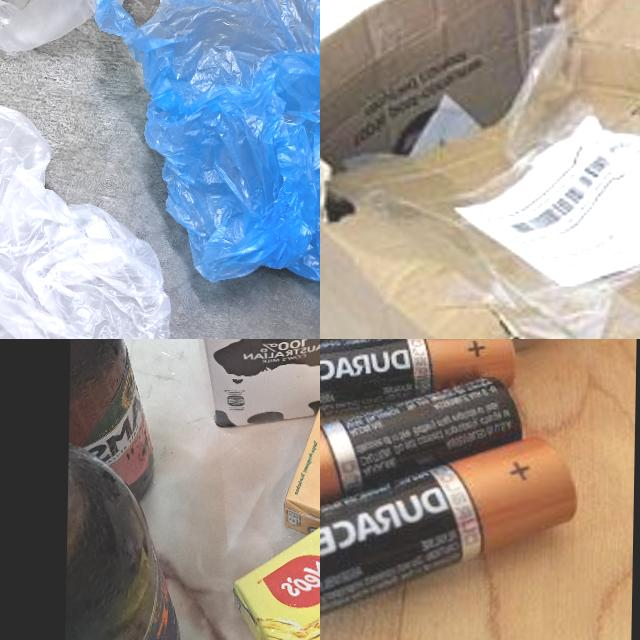bateria: (320, 430, 577, 639), (320, 372, 523, 550), (320, 339, 519, 433)
caixinha: (231, 514, 320, 640)
garrafa de vidro: (67, 339, 154, 501)
papelão: (320, 0, 640, 339)
sacola plástica: (82, 0, 320, 300), (0, 95, 173, 339)
